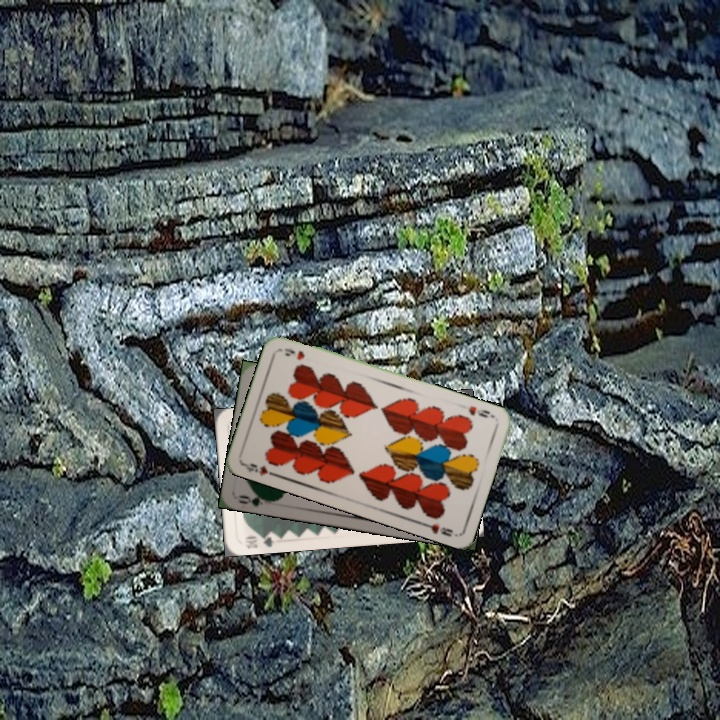G10: (241, 529, 277, 550)
GO: (235, 488, 275, 509)
H9: (240, 459, 279, 479), (464, 402, 492, 420)
